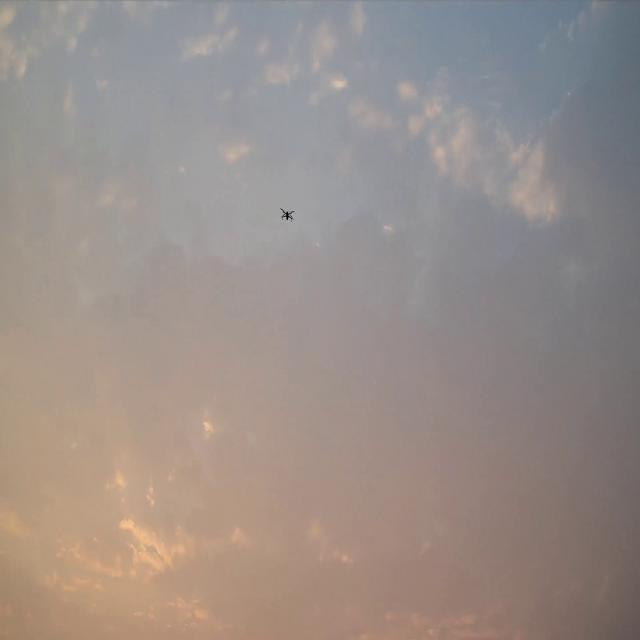drone: (279, 206, 296, 223)
